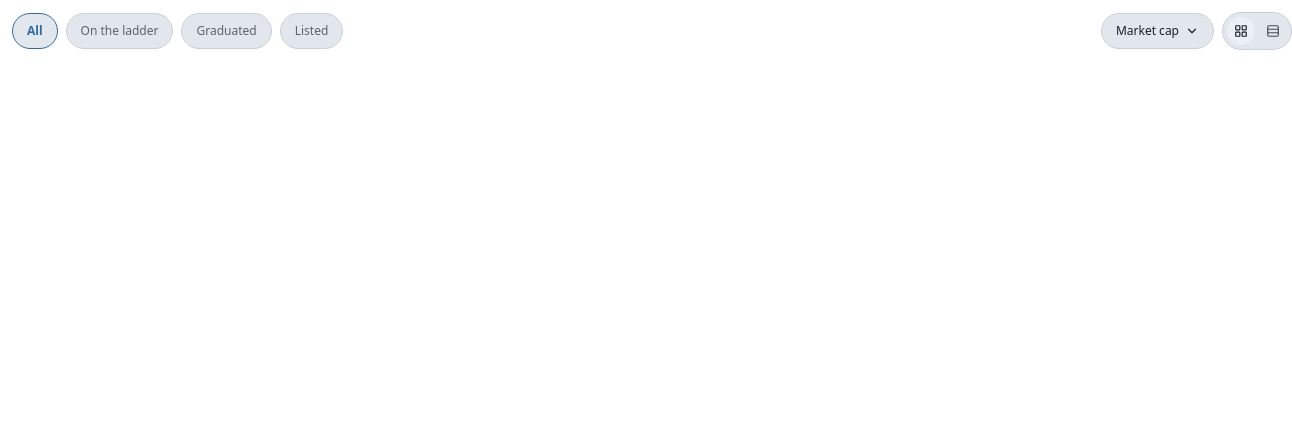
the sort control › opens, reports the selection and closes on choosing
Click the button with test id "launch-sort" at [1157, 31], box [1101,13,1214,49]
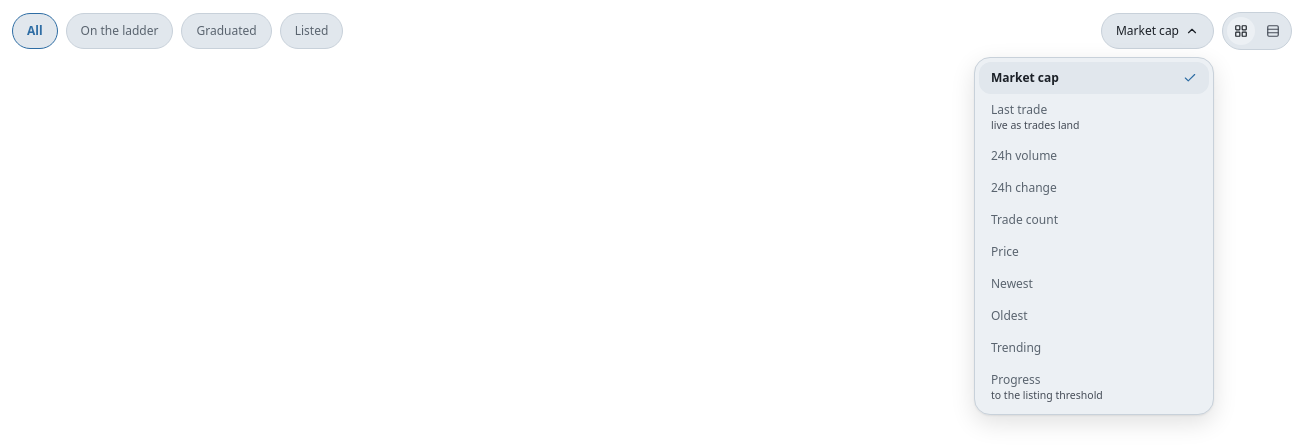
Expected: the list is shown, [974,57,1214,415]
Click the option with test id "launch-sort-last-trade" at [1094, 117], box [979,94,1209,140]
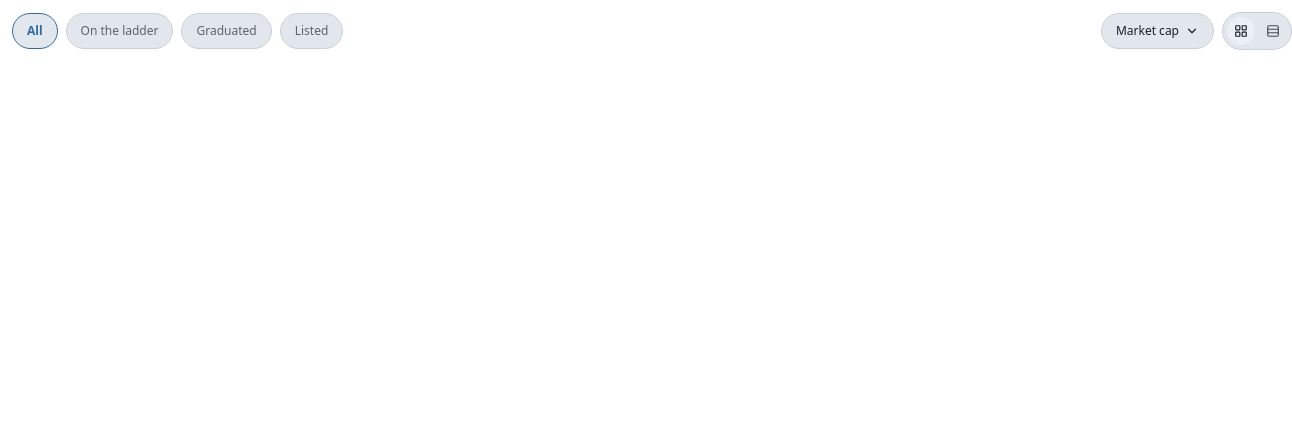
Expected: the list is gone
